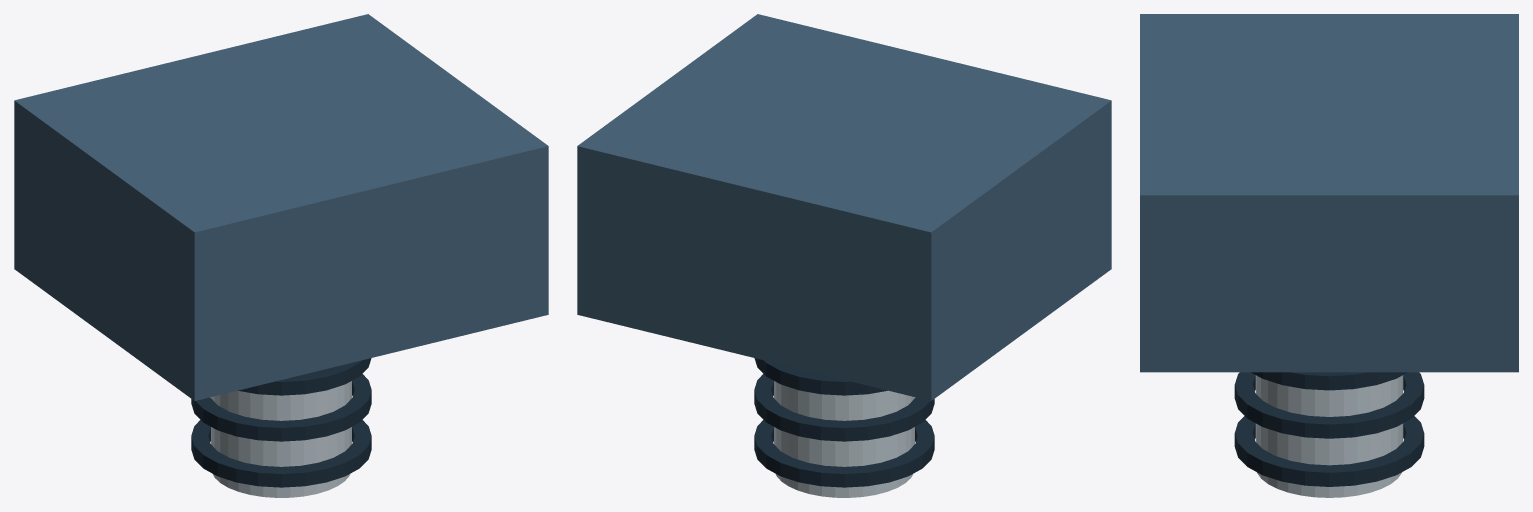
The model's file is 09_L76_CathodeVerticalLiftAssembly.fbx.
3 renders of one model, left to right at view 1: azimuth 30°, elevation 25°; view 2: azimuth 150°, elevation 25°; view 3: azimuth 270°, elevation 25°, orthographic. The views are drawn at different scales.
Visible parts, largest first — view 1: CathodeVerticalLiftAssembly, CathodeVerticalLiftAssembly_Part_0001, CathodeVerticalLiftAssembly_Part_0002, CathodeVerticalLiftAssembly_Part_0003, CathodeVerticalLiftAssembly_Part_0004; view 2: CathodeVerticalLiftAssembly, CathodeVerticalLiftAssembly_Part_0001, CathodeVerticalLiftAssembly_Part_0002, CathodeVerticalLiftAssembly_Part_0003, CathodeVerticalLiftAssembly_Part_0004; view 3: CathodeVerticalLiftAssembly, CathodeVerticalLiftAssembly_Part_0001, CathodeVerticalLiftAssembly_Part_0002, CathodeVerticalLiftAssembly_Part_0003, CathodeVerticalLiftAssembly_Part_0004.
Part boxes in pixels (x1,y1,x2,y2): CathodeVerticalLiftAssembly: (14, 14, 548, 400); CathodeVerticalLiftAssembly_Part_0001: (211, 381, 351, 497); CathodeVerticalLiftAssembly_Part_0002: (191, 420, 371, 487); CathodeVerticalLiftAssembly_Part_0003: (191, 374, 371, 441); CathodeVerticalLiftAssembly_Part_0004: (238, 358, 371, 395); CathodeVerticalLiftAssembly: (577, 14, 1111, 400); CathodeVerticalLiftAssembly_Part_0001: (774, 381, 914, 497); CathodeVerticalLiftAssembly_Part_0002: (754, 420, 934, 487); CathodeVerticalLiftAssembly_Part_0003: (754, 374, 934, 441); CathodeVerticalLiftAssembly_Part_0004: (754, 358, 887, 395); CathodeVerticalLiftAssembly: (1140, 14, 1518, 372); CathodeVerticalLiftAssembly_Part_0001: (1255, 375, 1403, 497); CathodeVerticalLiftAssembly_Part_0002: (1234, 416, 1424, 486); CathodeVerticalLiftAssembly_Part_0003: (1234, 372, 1424, 438); CathodeVerticalLiftAssembly_Part_0004: (1251, 372, 1407, 390).
Size of the model in its own units: 145 by 135 by 128.
